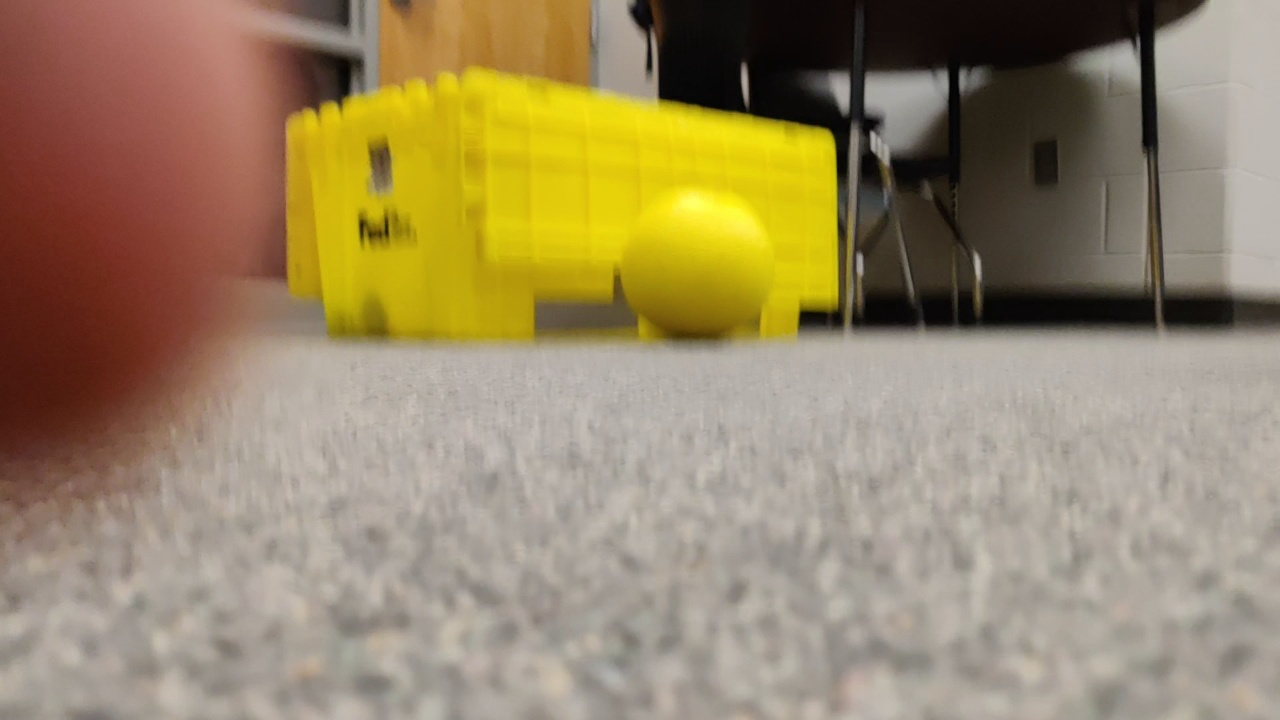Ball: (619, 185, 778, 344)
